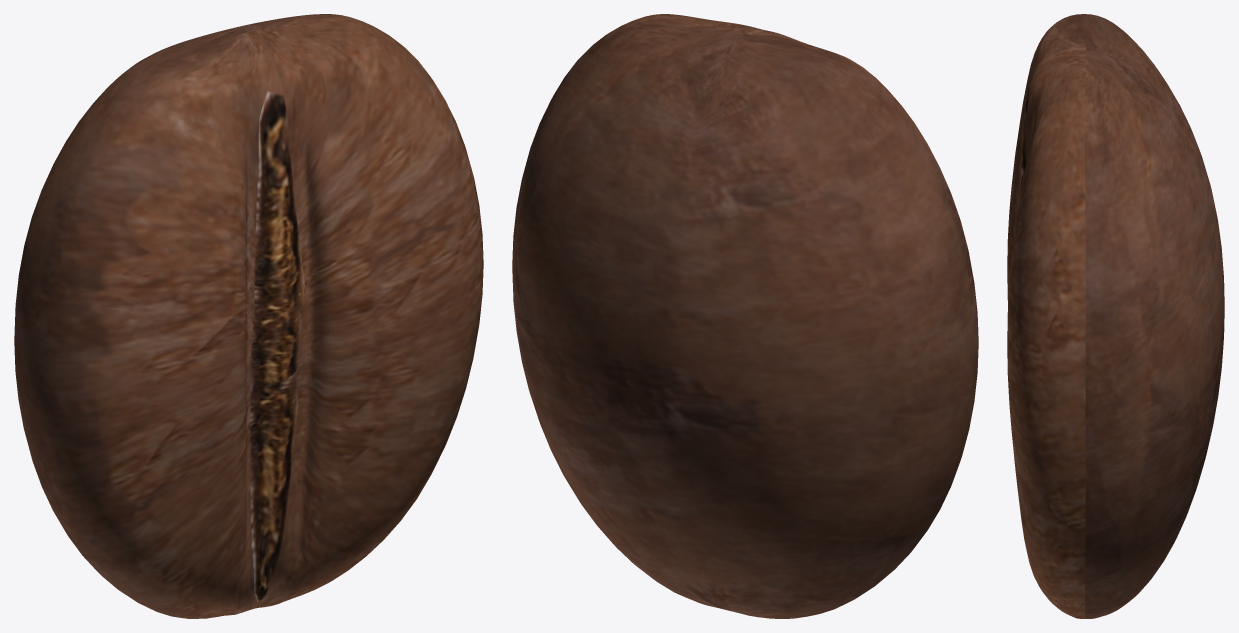
Rendered from Buna.fbx.
The picture shows the model from 3 angles, left to right: view 1: azimuth 30°, elevation 25°; view 2: azimuth 150°, elevation 25°; view 3: azimuth 270°, elevation 25°; orthographic projection. The views are drawn at different scales.
Parts seen in each view (by area): view 1: 10177_CoffeeBean_v01_it2; view 2: 10177_CoffeeBean_v01_it2; view 3: 10177_CoffeeBean_v01_it2.
Boxes of the visible parts, <box> form: 10177_CoffeeBean_v01_it2: <box>14,14,483,618</box>; 10177_CoffeeBean_v01_it2: <box>512,14,978,618</box>; 10177_CoffeeBean_v01_it2: <box>1007,14,1224,618</box>.
Bounding box in the file's own units: 460 × 569 × 205.
